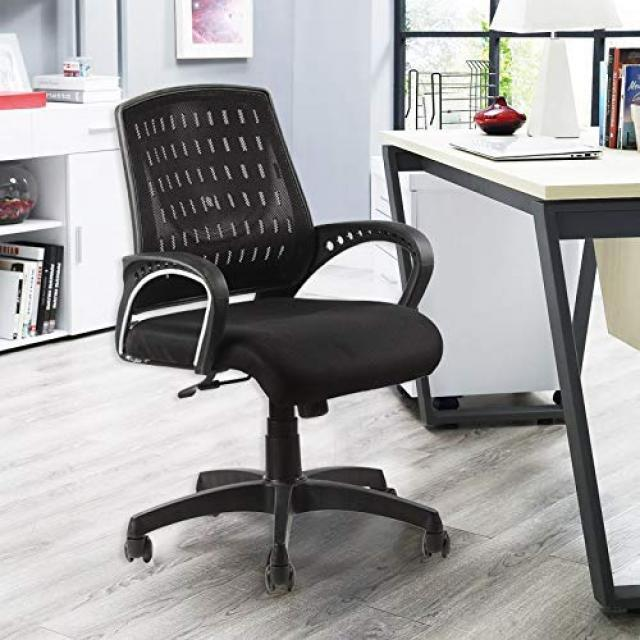chair: (110, 83, 454, 598)
